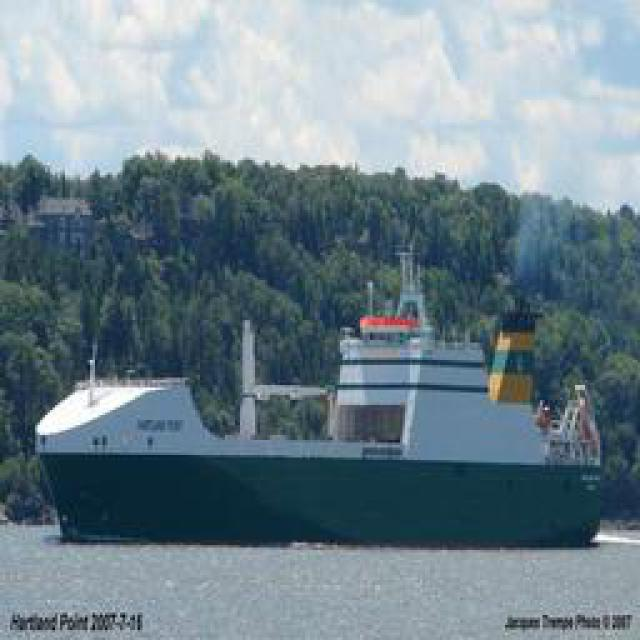Ship: (1, 355, 606, 558)
